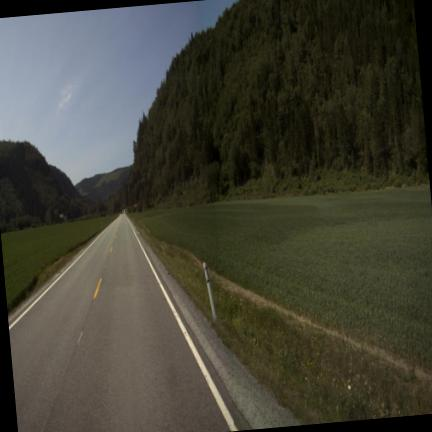Road: (8, 215, 236, 431)
